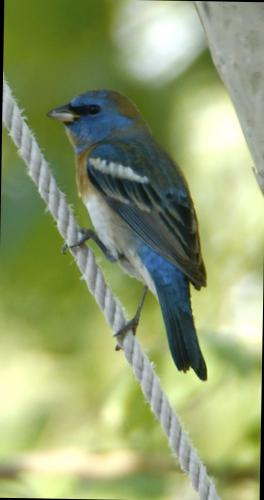bird: (30, 68, 240, 396)
